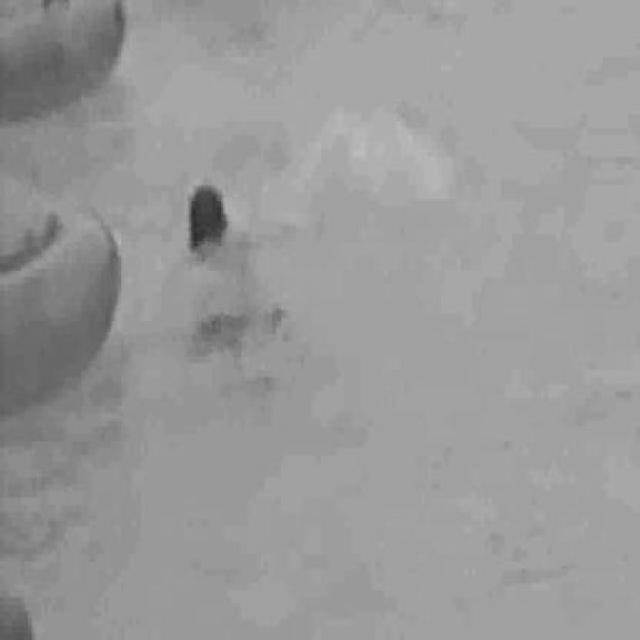drowning: (184, 189, 288, 374)
